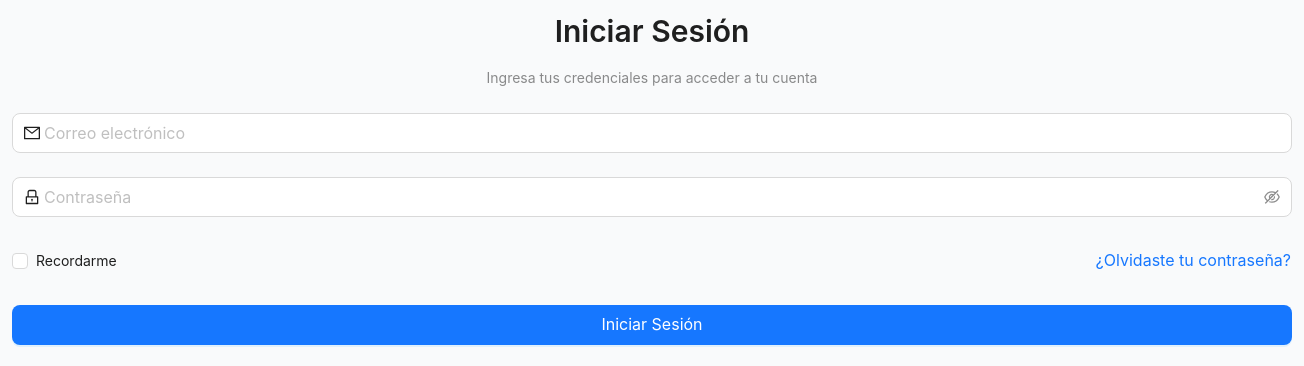
Test: LoginForm › validates required fields
Click the button "Iniciar Sesión" at [652, 325], box [12, 305, 1292, 345]
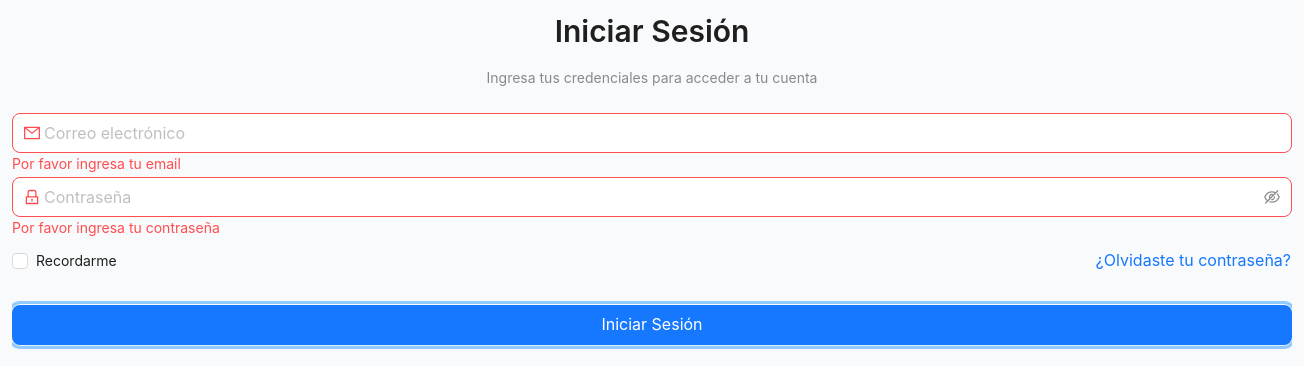
Now the text "Por favor ingresa tu email" is shown, box [12, 155, 181, 172]
Now the text "Por favor ingresa tu contraseña" is shown, box [12, 219, 220, 236]
